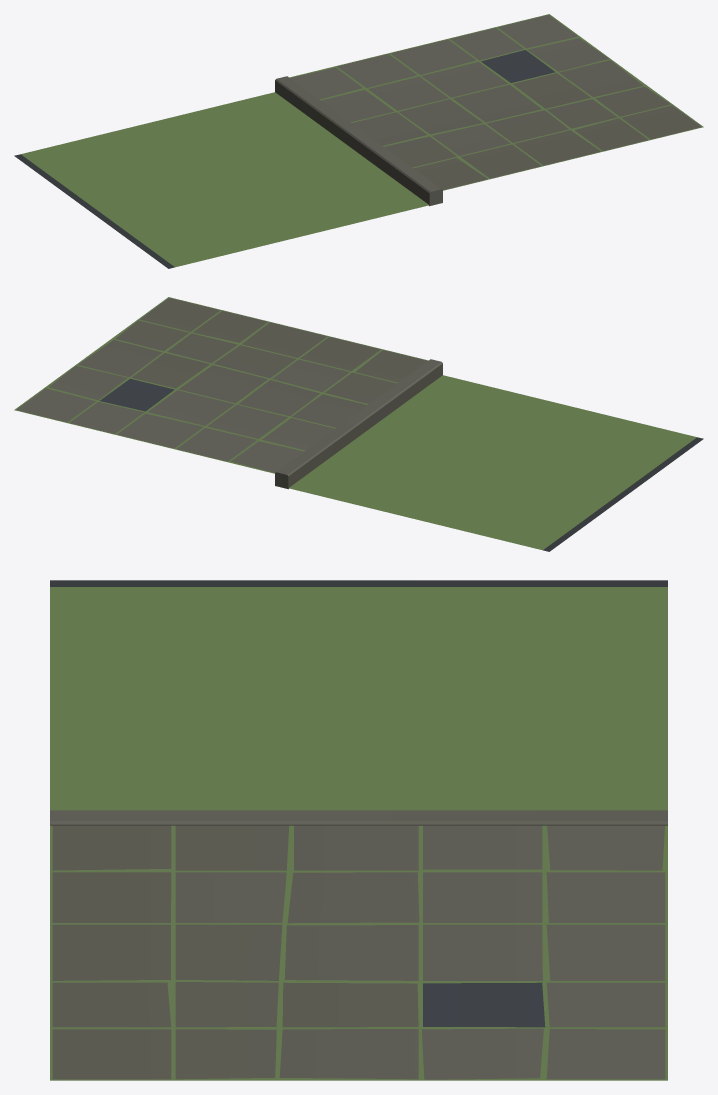
File: Road_14.fbx
3 renders of one model, top to bottom at view 1: azimuth 30°, elevation 25°; view 2: azimuth 150°, elevation 25°; view 3: azimuth 270°, elevation 25°, orthographic. The views are drawn at different scales.
Parts seen in each view (by area): view 1: Road_14; view 2: Road_14; view 3: Road_14.
Boxes of the visible parts, x1,y1,x2,y2 form: Road_14: (14, 14, 703, 268); Road_14: (14, 297, 703, 551); Road_14: (50, 580, 667, 1080).
Bounding box in the file's own units: 6 × 0.15 × 3.
